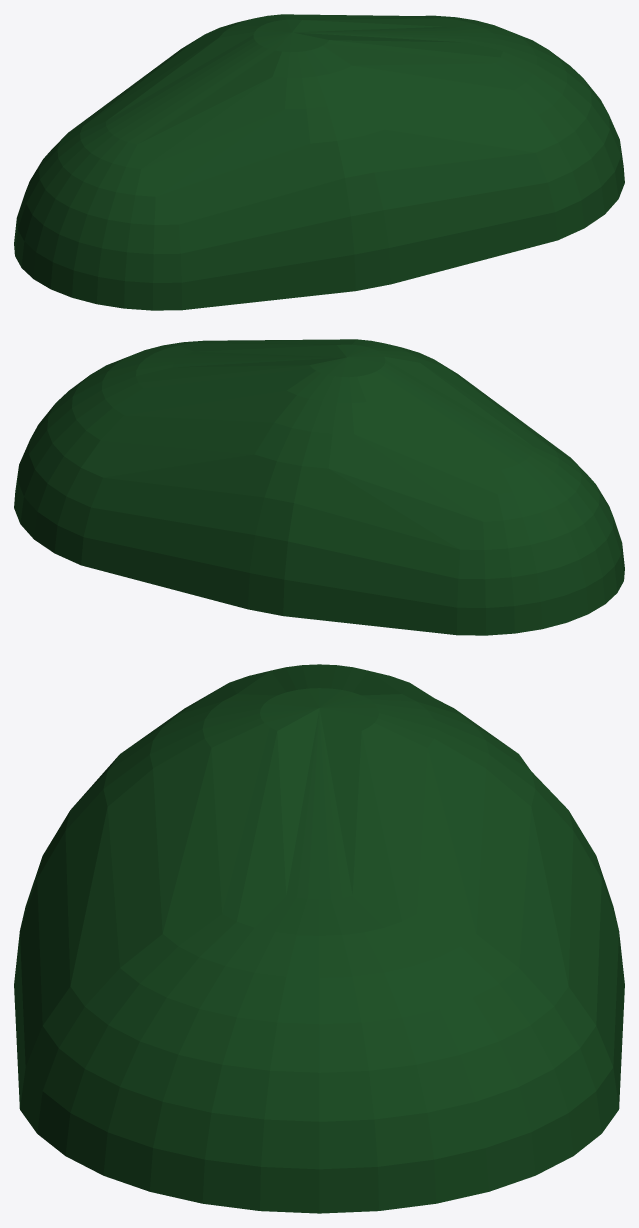
Rendered from Bush1.fbx.
3 renders of one model, top to bottom at view 1: azimuth 30°, elevation 25°; view 2: azimuth 150°, elevation 25°; view 3: azimuth 270°, elevation 25°, orthographic. The views are drawn at different scales.
Visible parts, largest first — view 1: Sphere; view 2: Sphere; view 3: Sphere.
Boxes of the visible parts, bbox=[...] form: Sphere: bbox=[14, 14, 624, 310]; Sphere: bbox=[14, 339, 624, 635]; Sphere: bbox=[14, 664, 624, 1213].
Size of the model in its own units: 384 by 119 by 233.
